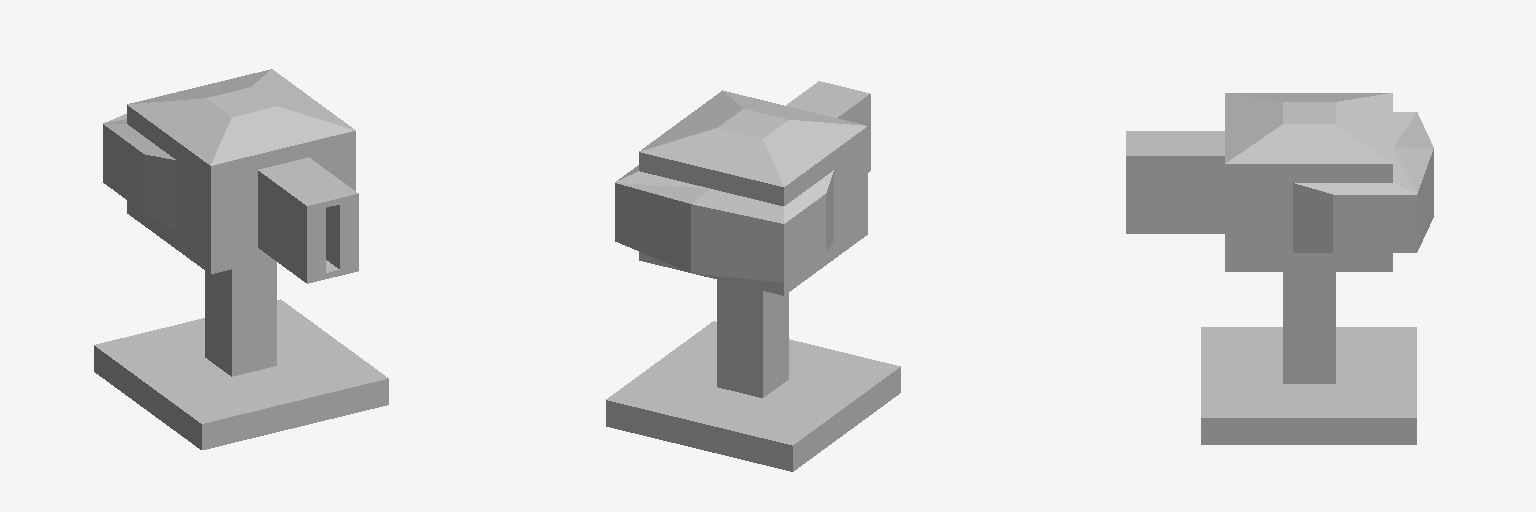
Rendered from turret.obj.
3 views of the same model, side by side, from view 1: azimuth 30°, elevation 25°; view 2: azimuth 150°, elevation 25°; view 3: azimuth 270°, elevation 25° (orthographic).
Parts seen in each view (by area): view 1: Cube, Cube.001; view 2: Cube, Cube.001; view 3: Cube, Cube.001.
Part boxes in pixels (left/top/right/bottom): Cube: left=103, top=69, right=358, bottom=283; Cube.001: left=94, top=259, right=388, bottom=449; Cube: left=615, top=81, right=870, bottom=295; Cube.001: left=606, top=280, right=900, bottom=471; Cube: left=1126, top=93, right=1433, bottom=271; Cube.001: left=1201, top=272, right=1416, bottom=444.
Bounding box in the file's own units: 4.63 × 6.76 × 6.6.